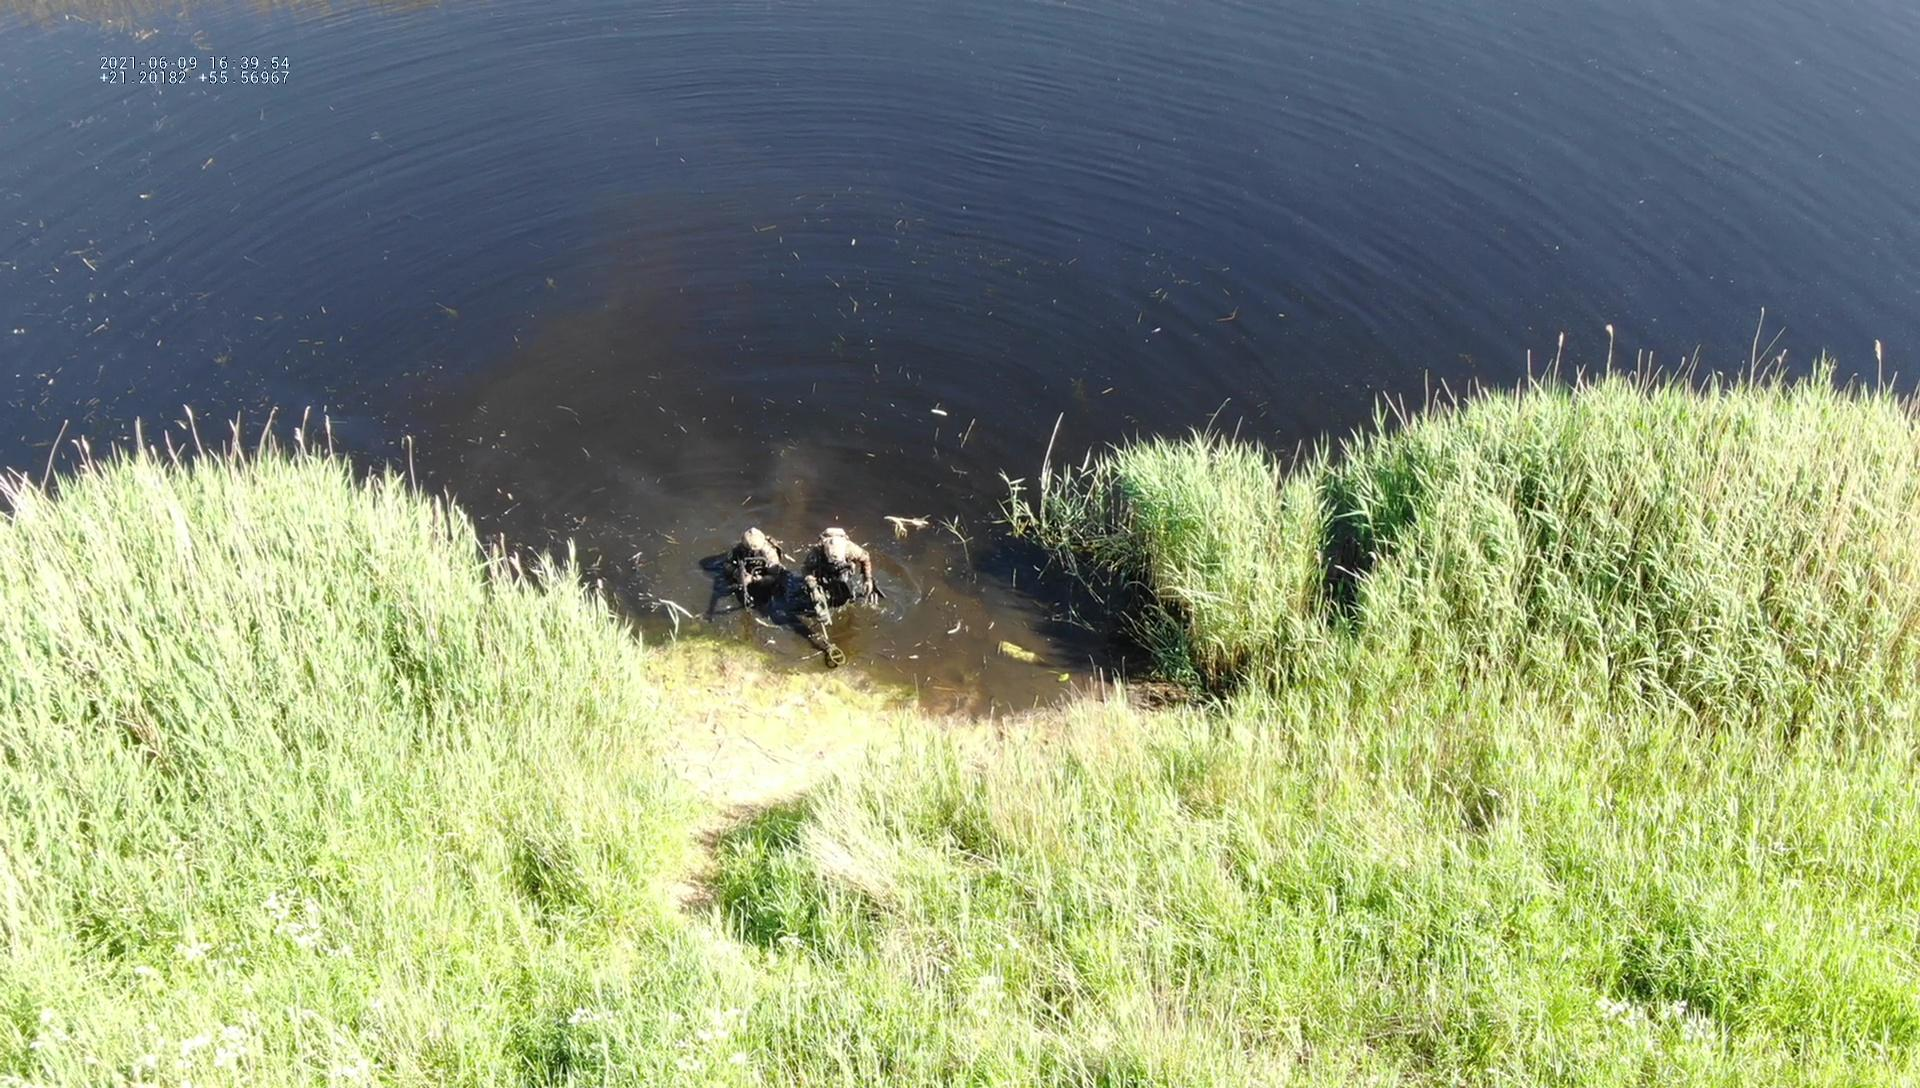Soldier: (799, 524, 878, 644), (721, 525, 785, 612)
